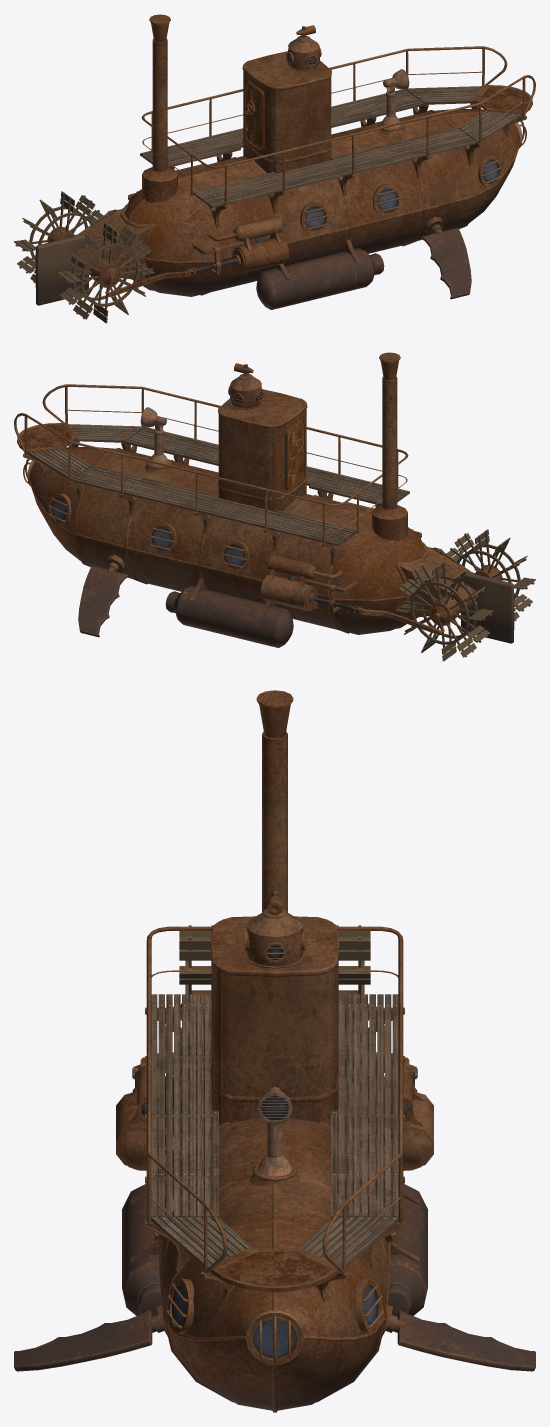
Rendered from ancient_submarine.glb.
3 views of the same model, one above another, from view 1: azimuth 30°, elevation 25°; view 2: azimuth 150°, elevation 25°; view 3: azimuth 270°, elevation 25° (orthographic). The views are drawn at different scales.
Visible parts, largest first — view 1: body, walkway_sides, tower, waterwheel, ballasttank, chimney, engine, rudder, wings, barrier_toprail, windows_sides, walkway_front (+10 smaller); view 2: body, walkway_sides, tower, waterwheel, ballasttank, chimney, engine, rudder, wings, barrier_toprail, windows_sides, walkway_front (+10 smaller); view 3: body, walkway_sides, tower, wings, ballasttank, chimney, engine, walkway_front, barrier_toprail, struts, walkway_nose, waterwheel (+5 smaller).
Boxes of the visible parts, box(x1,y1,x2,y2) form: body: box(124, 109, 520, 296); walkway_sides: box(140, 89, 476, 207); tower: box(242, 51, 331, 173); waterwheel: box(14, 191, 154, 323); ballasttank: box(256, 239, 384, 309); chimney: box(142, 14, 177, 202); engine: box(176, 164, 288, 273); rudder: box(35, 234, 88, 305); wings: box(421, 216, 471, 299); barrier_toprail: box(141, 46, 535, 168); windows_sides: box(300, 155, 501, 234); walkway_front: box(406, 86, 522, 143); body: box(29, 447, 425, 634); walkway_sides: box(73, 427, 409, 545); tower: box(218, 389, 307, 511); waterwheel: box(395, 529, 535, 661); ballasttank: box(165, 577, 293, 647); chimney: box(372, 352, 407, 540); engine: box(261, 502, 373, 611); rudder: box(461, 572, 514, 643); wings: box(78, 554, 128, 637); barrier_toprail: box(14, 384, 408, 506); windows_sides: box(48, 493, 249, 572); walkway_front: box(27, 424, 143, 481); body: box(159, 1024, 390, 1412); walkway_sides: box(151, 994, 398, 1217); tower: box(210, 916, 339, 1124); wings: box(14, 1305, 535, 1371); ballasttank: box(122, 1184, 427, 1318); chimney: box(256, 690, 293, 912); engine: box(116, 1064, 433, 1170); walkway_front: box(151, 1217, 398, 1272); barrier_toprail: box(146, 926, 403, 1273); struts: box(145, 1007, 404, 1302); walkway_nose: box(209, 1247, 340, 1292); waterwheel: box(172, 925, 377, 1031).
Size of the model in its own units: 0.1623 by 0.0889 by 0.0869.
Materials: 5 (5 with a texture image).
